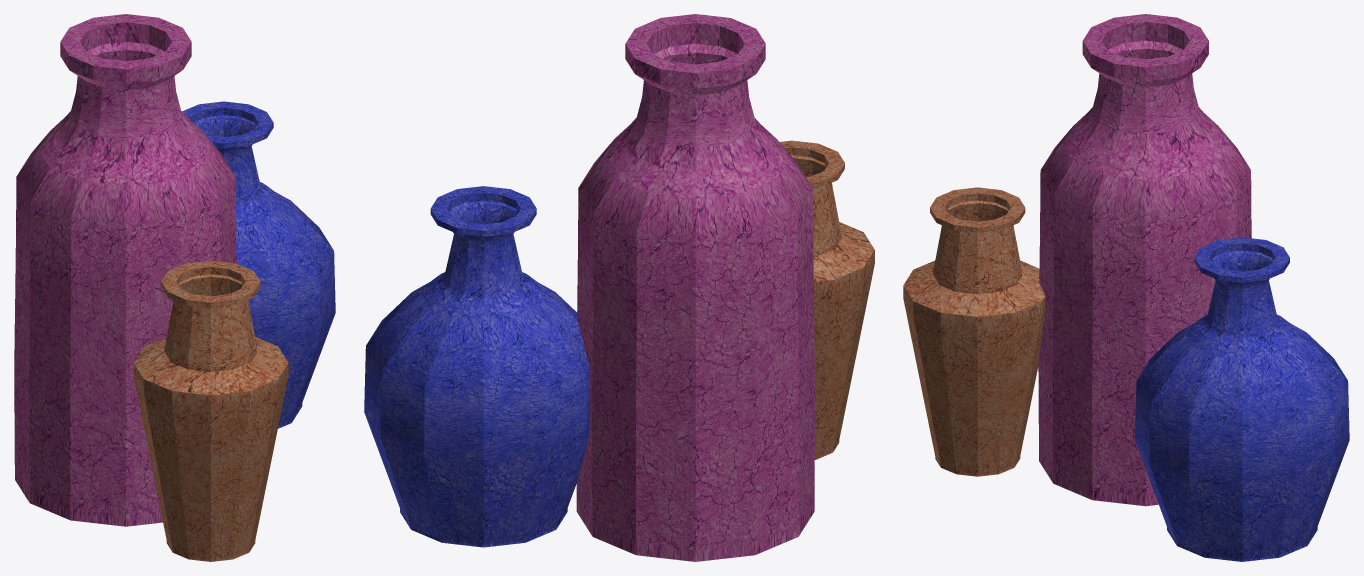
The model's file is bottles.fbx.
3 views of the same model, side by side, from view 1: azimuth 30°, elevation 25°; view 2: azimuth 150°, elevation 25°; view 3: azimuth 270°, elevation 25° (orthographic). The views are drawn at different scales.
Parts seen in each view (by area): view 1: bottle2, bottle, bottle1; view 2: bottle2, bottle1, bottle; view 3: bottle2, bottle1, bottle.
Boxes of the visible parts, box(x1,y1,x2,y2) form: bottle2: box(14, 14, 236, 526); bottle: box(133, 260, 288, 561); bottle1: box(182, 101, 335, 428); bottle2: box(576, 14, 815, 561); bottle1: box(364, 186, 589, 547); bottle: box(779, 140, 874, 459); bottle2: box(1038, 14, 1251, 506); bottle1: box(1135, 237, 1349, 561); bottle: box(903, 187, 1045, 476).
Size of the model in its own units: 10.49 by 12.84 by 12.35.
